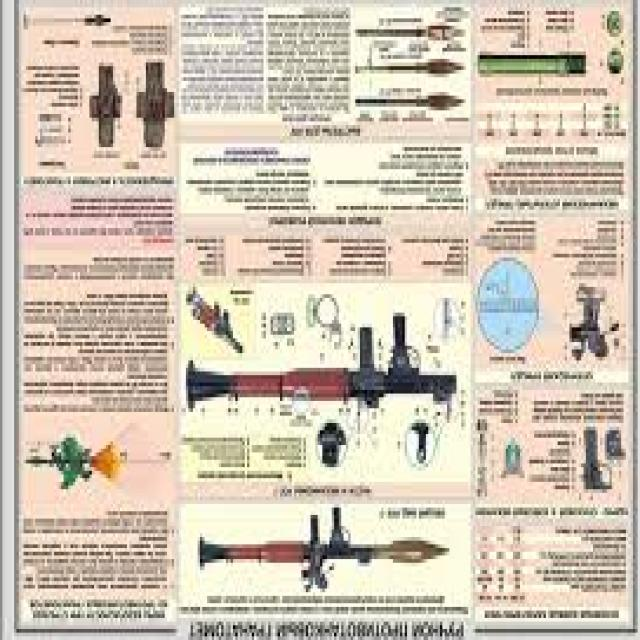Gun: (168, 288, 468, 431), (192, 490, 452, 594)
